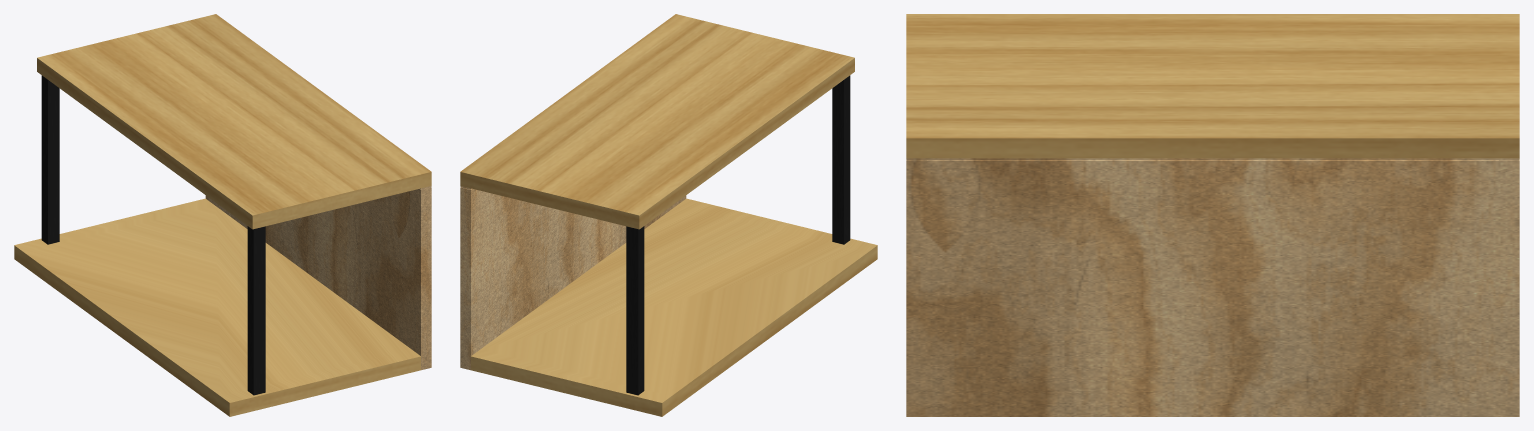
The model's file is SM_Mesa Recepção.fbx.
3 renders of one model, left to right at view 1: azimuth 30°, elevation 25°; view 2: azimuth 150°, elevation 25°; view 3: azimuth 270°, elevation 25°, orthographic. The views are drawn at different scales.
Parts seen in each view (by area): view 1: SM_Mesa Recepção; view 2: SM_Mesa Recepção; view 3: SM_Mesa Recepção.
Boxes of the visible parts, x1,y1,x2,y2 form: SM_Mesa Recepção: (14,14,431,416); SM_Mesa Recepção: (460,14,877,416); SM_Mesa Recepção: (906,14,1519,416).
Size of the model in its own units: 78.93 by 73.13 by 146.
